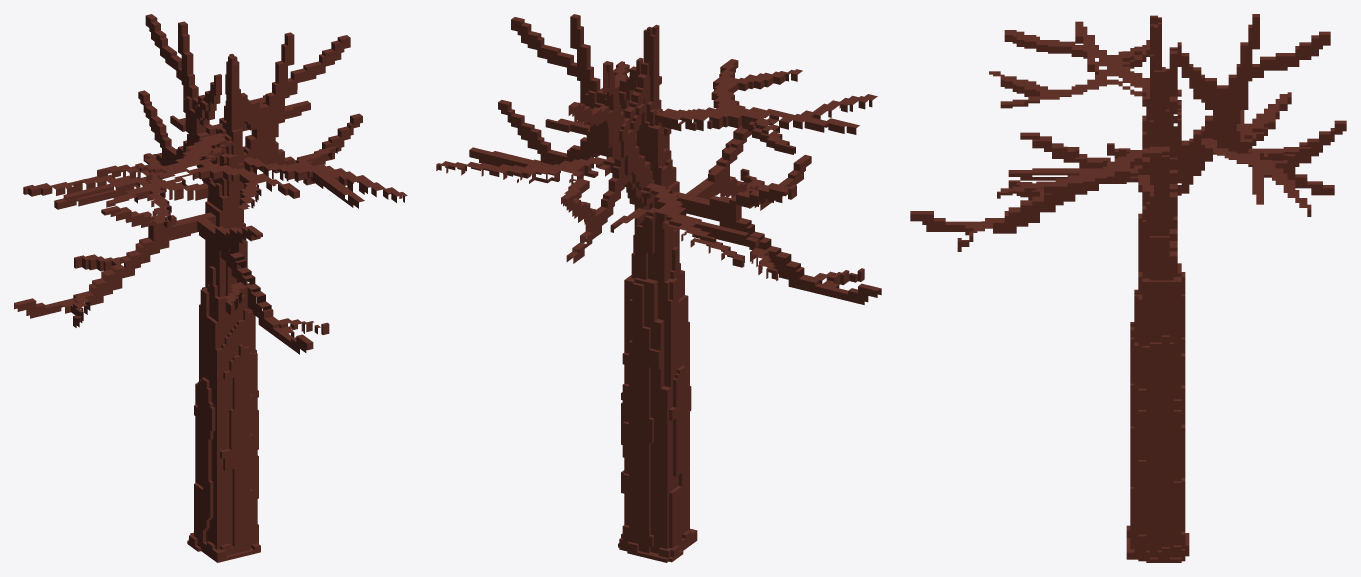
The model's file is Tree.fbx.
The picture shows the model from 3 angles, left to right: view 1: azimuth 30°, elevation 25°; view 2: azimuth 150°, elevation 25°; view 3: azimuth 270°, elevation 25°; orthographic projection. The views are drawn at different scales.
Visible parts, largest first — view 1: Tree.001; view 2: Tree.001; view 3: Tree.001.
Part boxes in pixels (x1,y1,x2,y2): Tree.001: (14, 14, 407, 562); Tree.001: (436, 14, 881, 562); Tree.001: (910, 14, 1346, 562).
Bounding box in the file's own units: 3.96 × 5.25 × 3.89.
